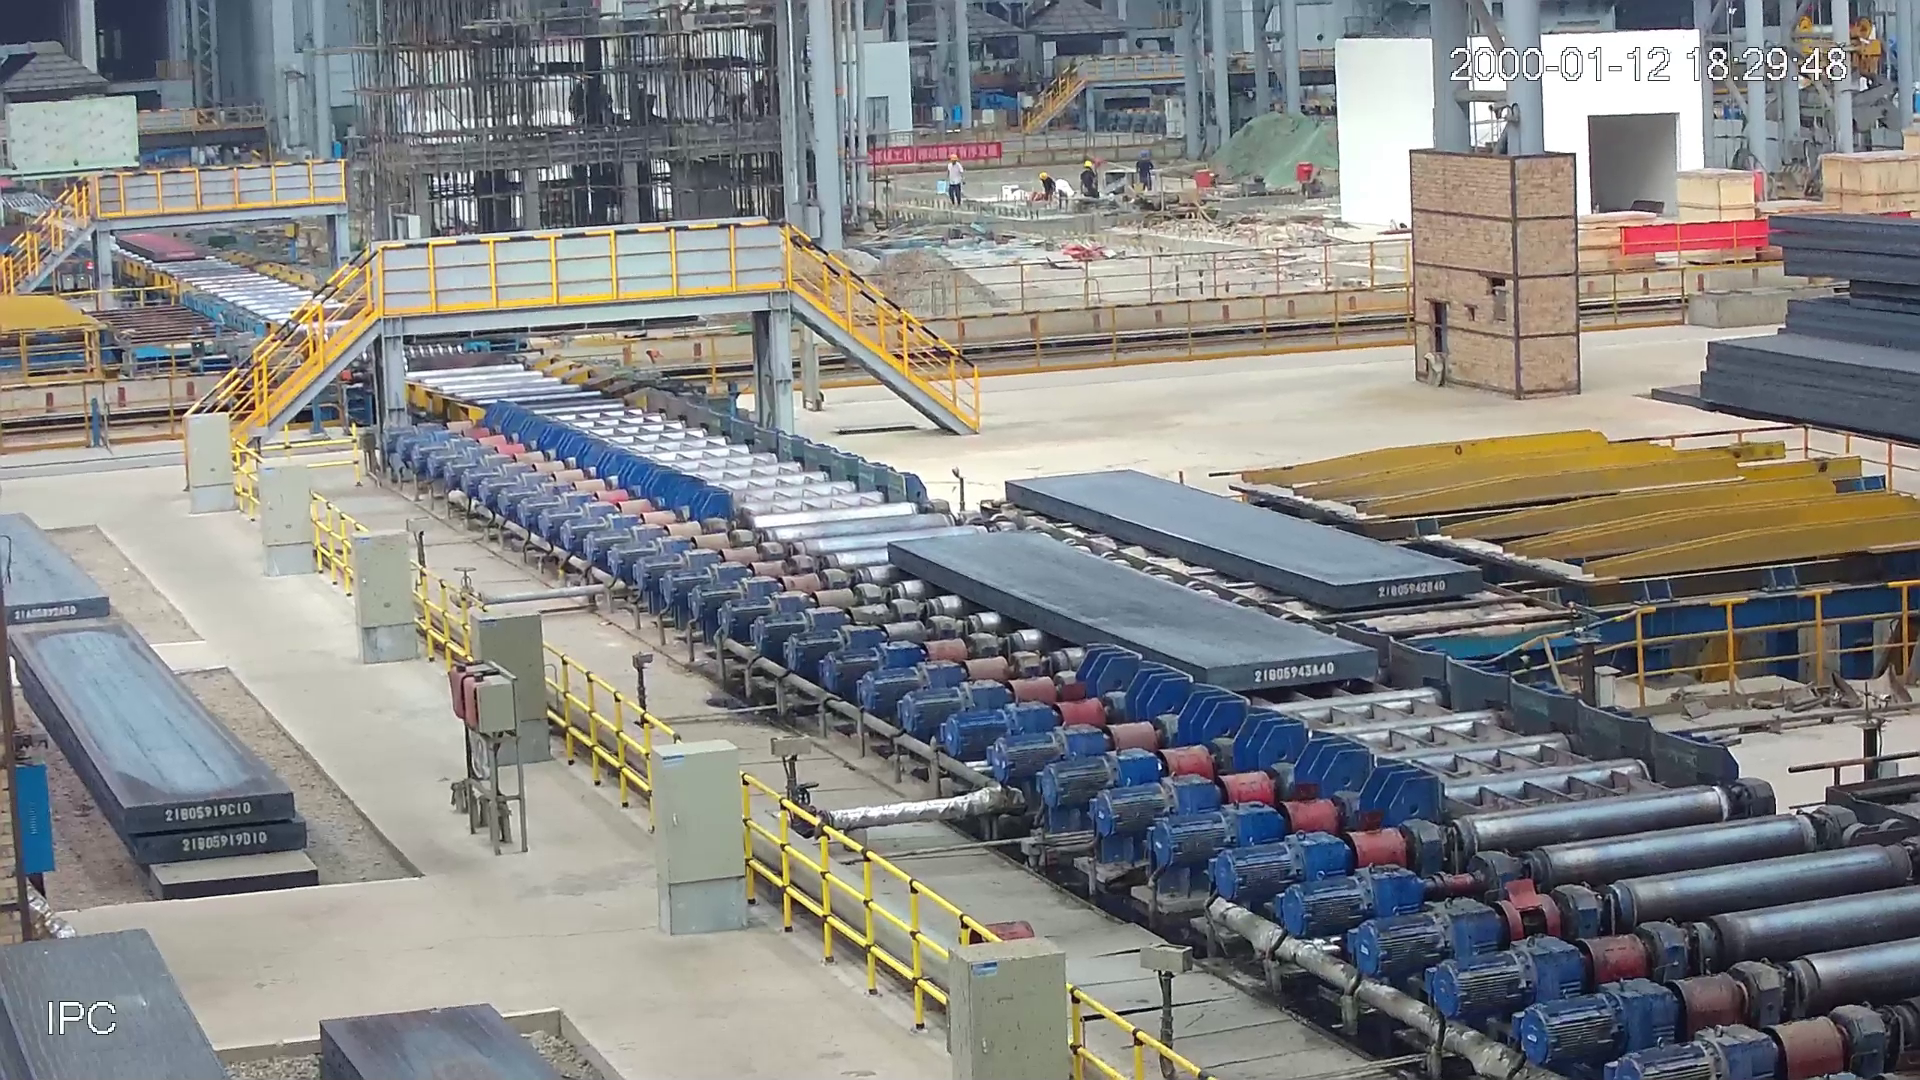slab: (881, 520, 1389, 705), (1000, 456, 1494, 616), (117, 227, 215, 264)
